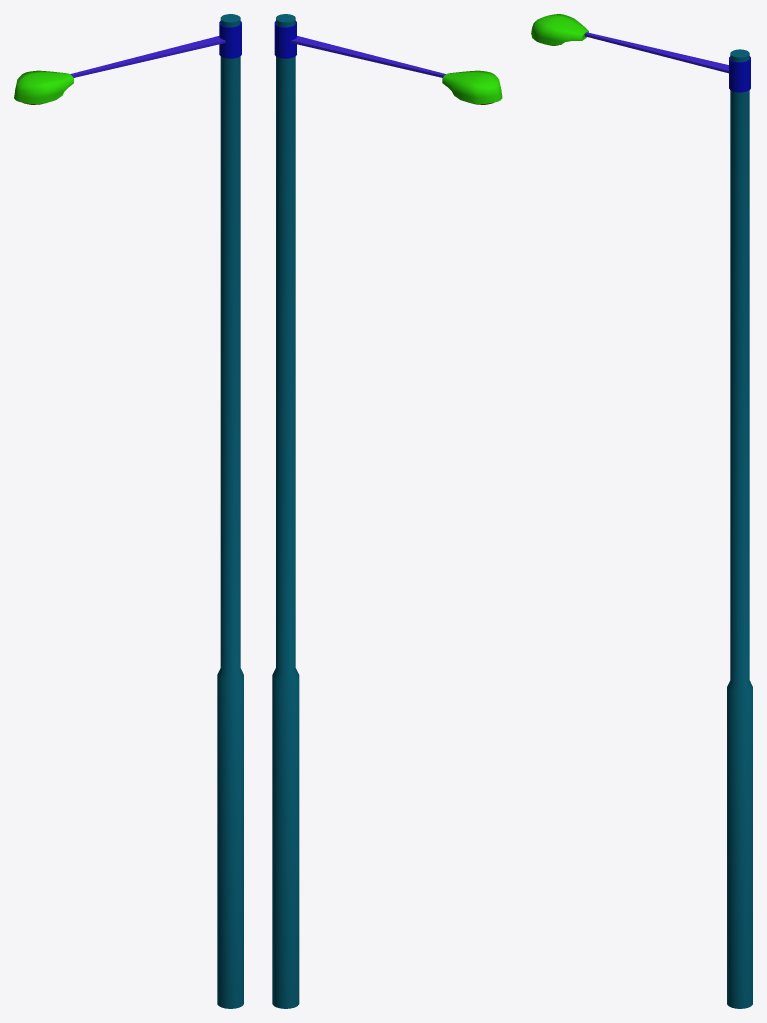
The model's file is StreetLight (LowPoly_UVW).FBX.
3 renders of one model, left to right at view 1: azimuth 30°, elevation 25°; view 2: azimuth 150°, elevation 25°; view 3: azimuth 330°, elevation 25°, orthographic. The views are drawn at different scales.
Parts seen in each view (by area): view 1: Low Poly StreetLight; view 2: Low Poly StreetLight; view 3: Low Poly StreetLight.
Part boxes in pixels (bbox=[...]): Low Poly StreetLight: bbox=[14, 14, 243, 1008]; Low Poly StreetLight: bbox=[272, 14, 502, 1008]; Low Poly StreetLight: bbox=[531, 14, 752, 1008].
Bounding box in the file's own units: 1.93 × 8 × 0.3051.
